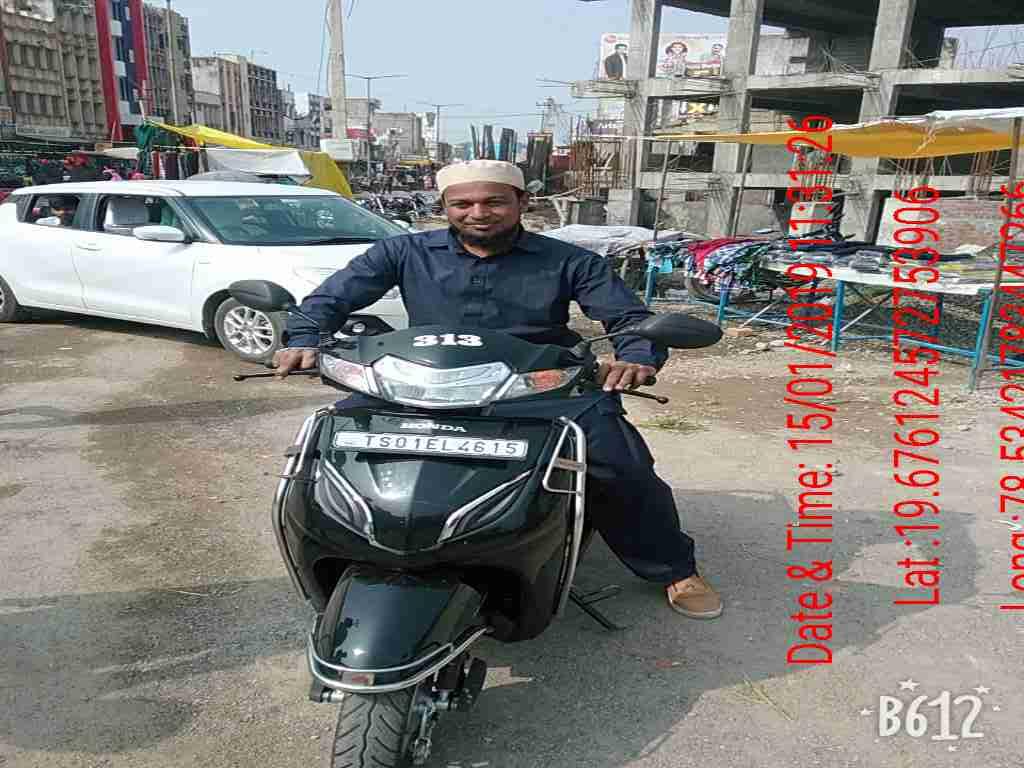plate: (328, 427, 531, 466)
